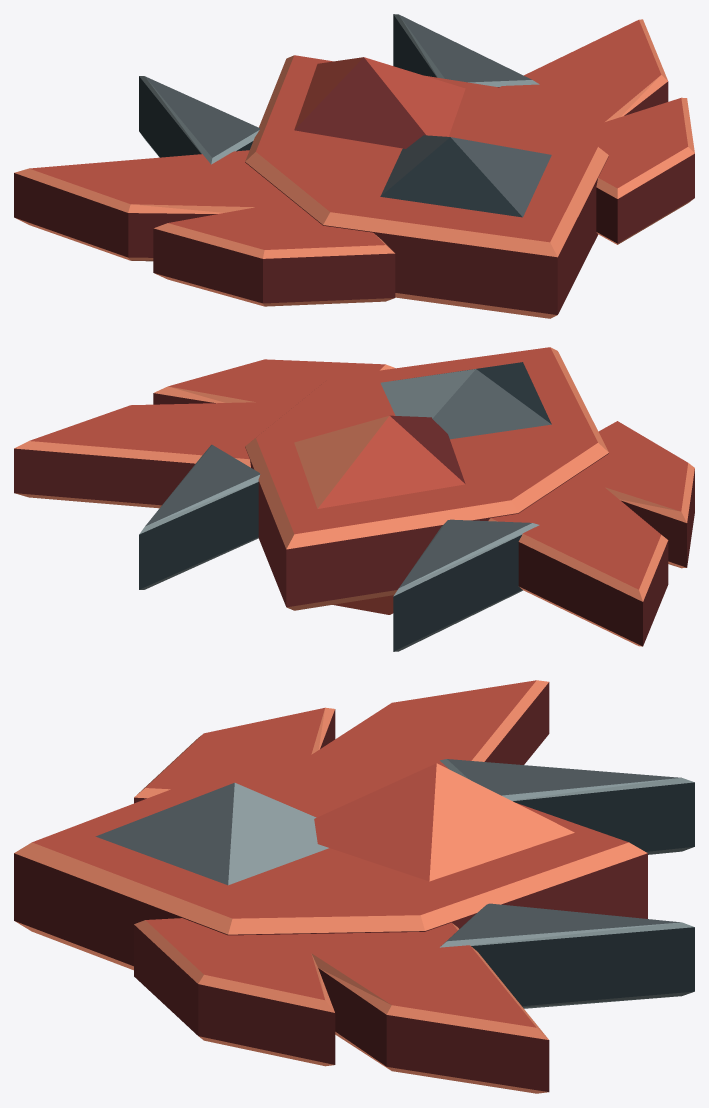
File: reidite_shield.fbx
The picture shows the model from 3 angles, top to bottom: view 1: azimuth 30°, elevation 25°; view 2: azimuth 150°, elevation 25°; view 3: azimuth 270°, elevation 25°; orthographic projection. The views are drawn at different scales.
Visible parts, largest first — view 1: reidite_shield; view 2: reidite_shield; view 3: reidite_shield.
Part boxes in pixels (x1,y1,x2,y2): reidite_shield: (14,14,694,318); reidite_shield: (14,347,694,651); reidite_shield: (14,680,694,1093).
Bounding box in the file's own units: 1.98 × 0.6 × 1.59.
Materials: 1 (1 with a texture image).
